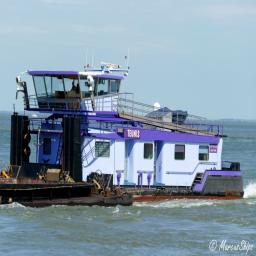tugboat: (11, 45, 249, 211)
